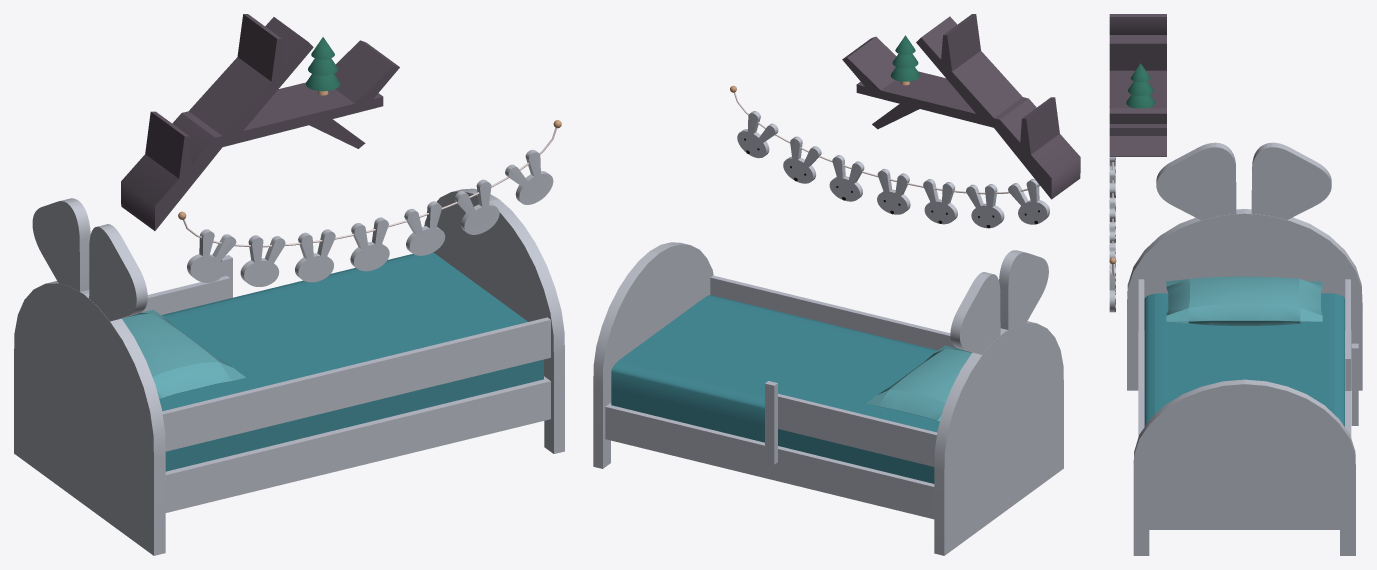
Rendered from Furn3_bed_color3_joined.fbx.
3 views of the same model, side by side, from view 1: azimuth 30°, elevation 25°; view 2: azimuth 150°, elevation 25°; view 3: azimuth 270°, elevation 25° (orthographic). The views are drawn at different scales.
Visible parts, largest first — view 1: Куб.002; view 2: Куб.002; view 3: Куб.002.
Part boxes in pixels (left/top/right/bottom): Куб.002: left=14, top=14, right=564, bottom=555; Куб.002: left=593, top=14, right=1080, bottom=555; Куб.002: left=1109, top=14, right=1362, bottom=555.
Size of the model in its own units: 399 by 447 by 245.
